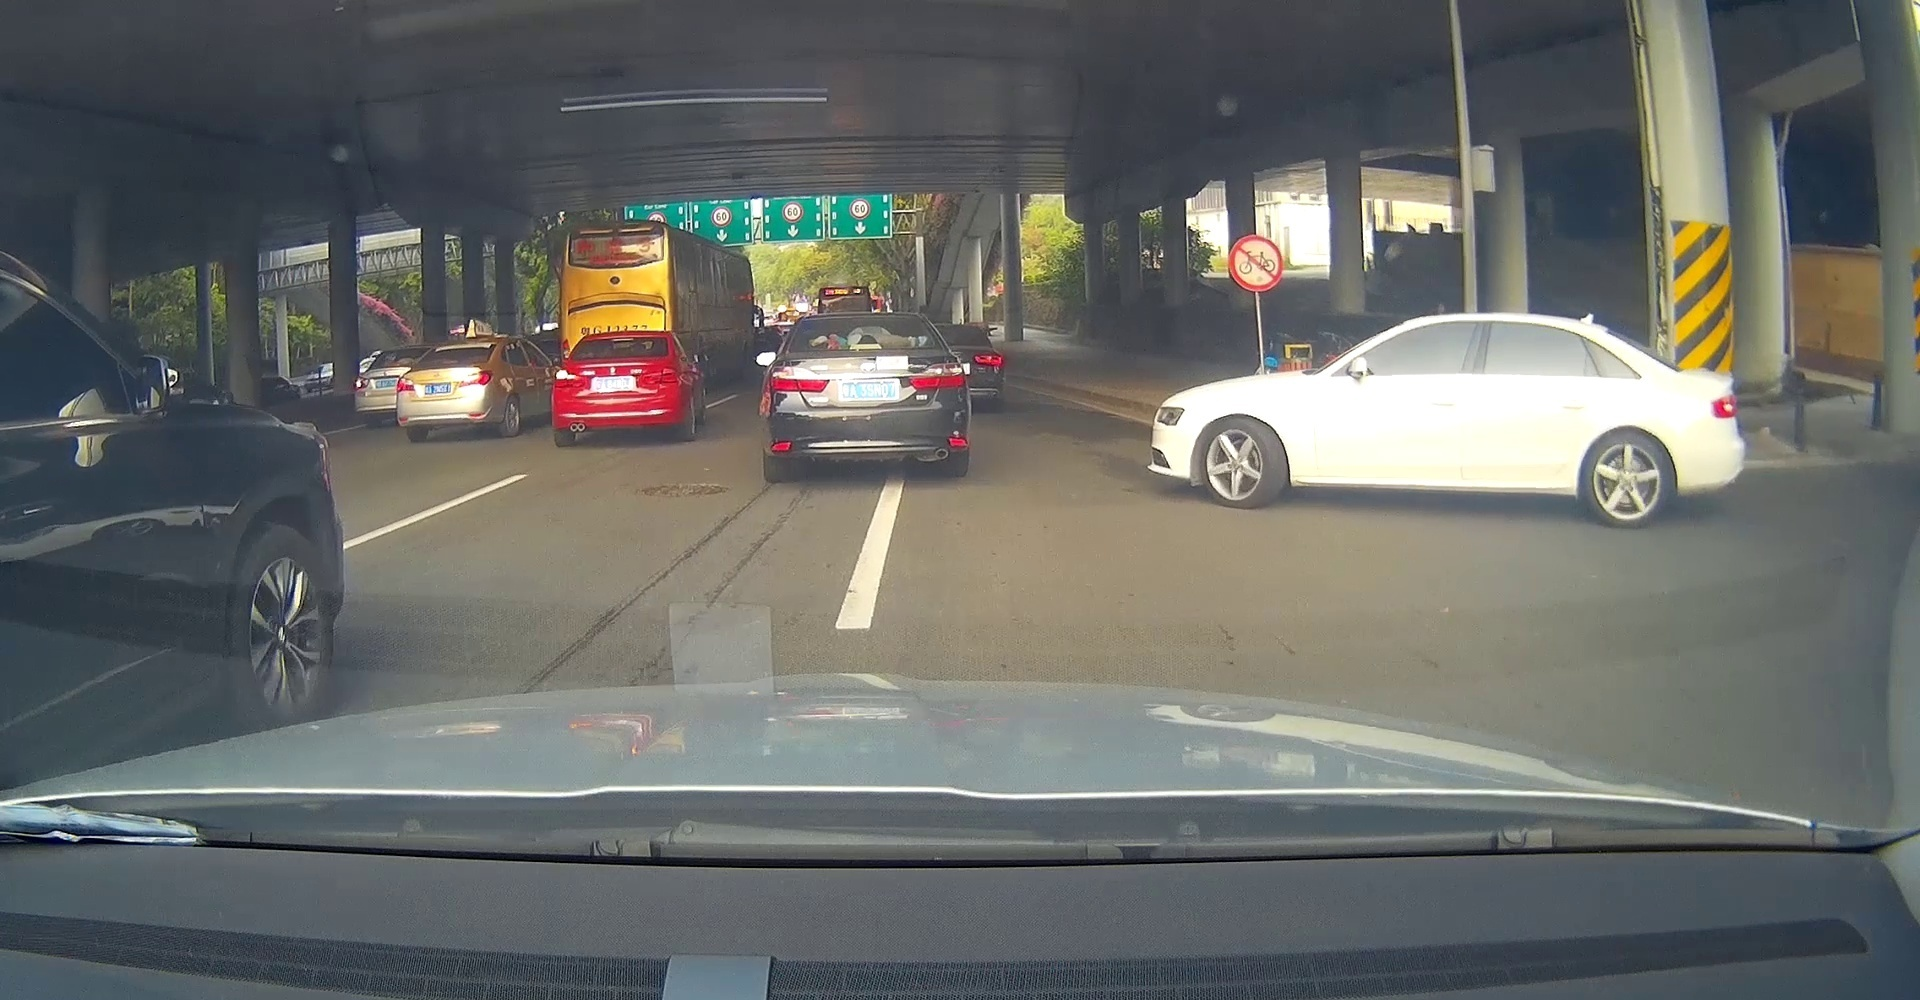L_light: (767, 376, 830, 392), (554, 368, 590, 388), (396, 377, 417, 393)
R_light: (909, 362, 965, 390), (640, 368, 679, 385), (458, 371, 493, 387)
T_light: (848, 344, 883, 350), (611, 338, 632, 341), (458, 341, 475, 344)
day-left: (551, 331, 690, 447)
day-no: (759, 312, 971, 484), (395, 336, 507, 443)
